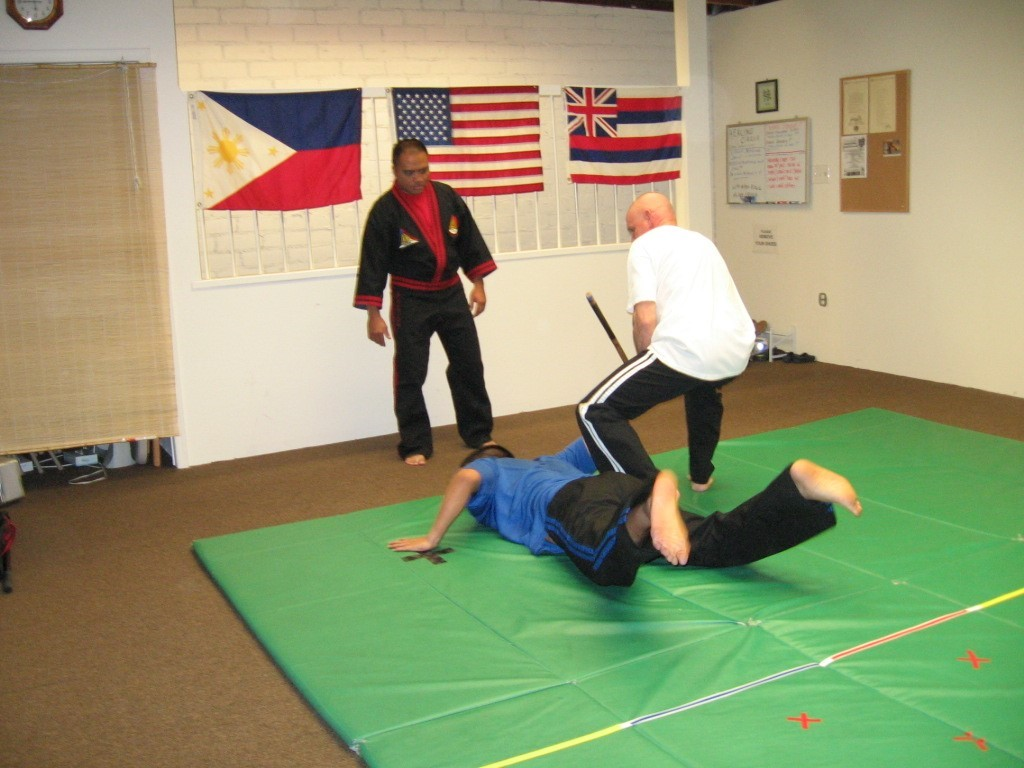baston_e: (588, 301, 629, 360)
baston_v: (583, 289, 594, 300)
